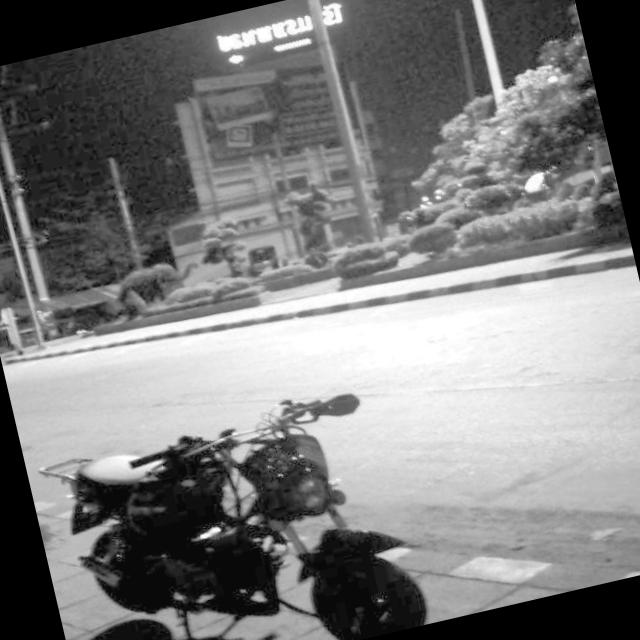Motorcycle: (41, 375, 478, 640)
